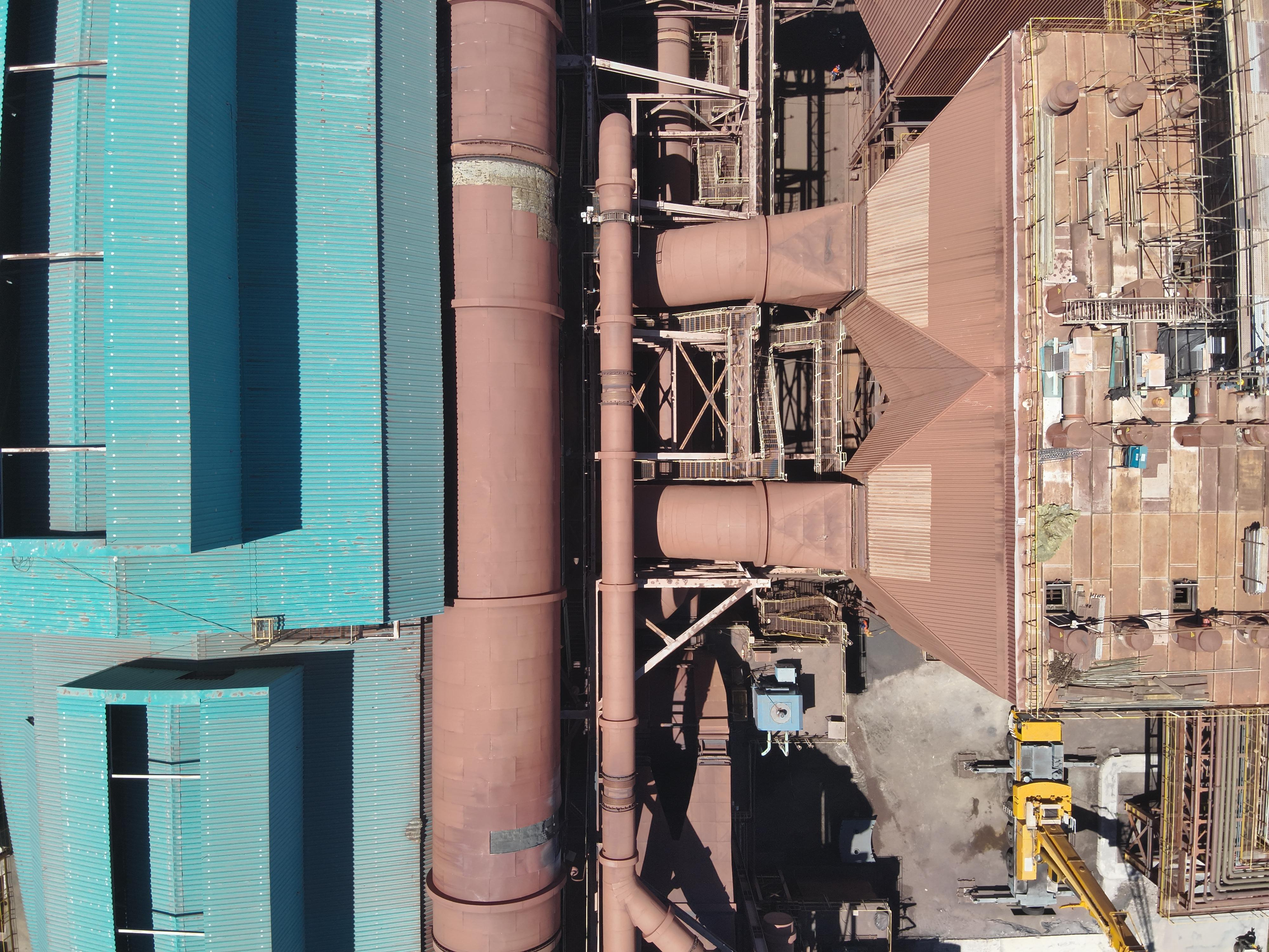Failures: (443, 155, 563, 240), (488, 802, 569, 858)
